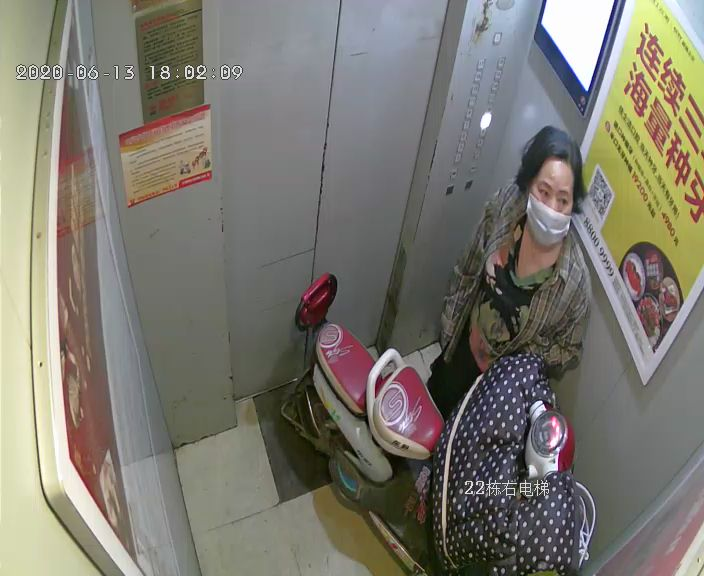Electric-bicycle: (281, 270, 597, 572)
